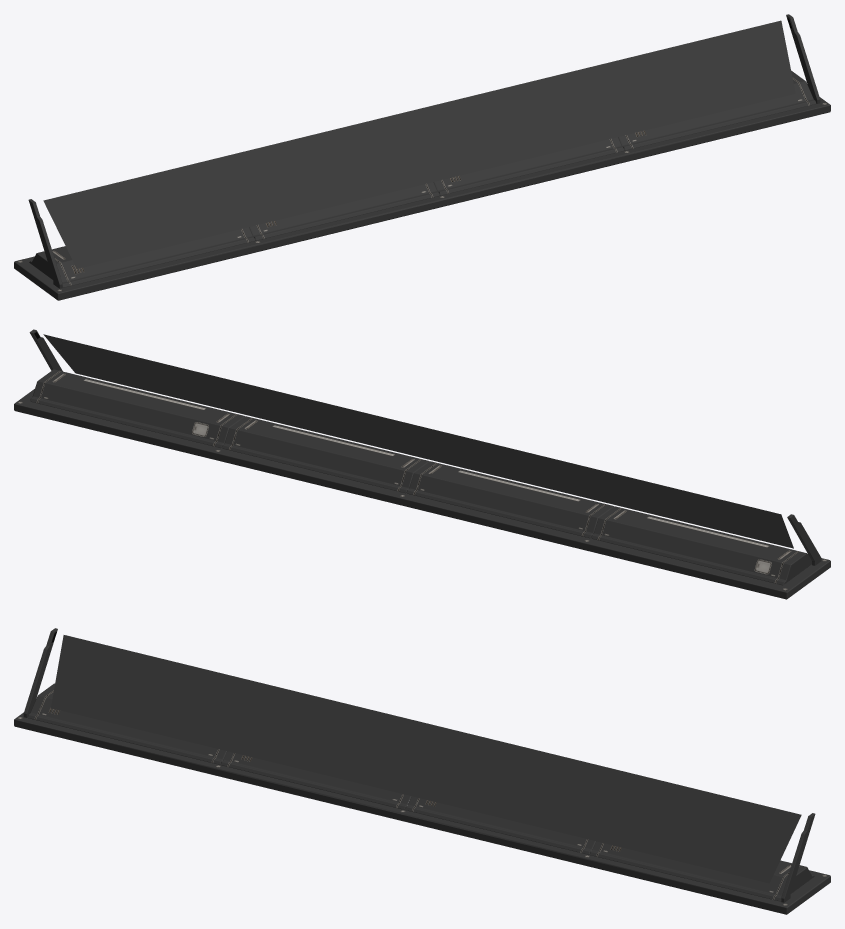
Rendered from SM_Bar_Main_Hologram.FBX.
3 renders of one model, top to bottom at view 1: azimuth 30°, elevation 25°; view 2: azimuth 150°, elevation 25°; view 3: azimuth 330°, elevation 25°, orthographic.
Visible parts, largest first — view 1: SM_Bar_Main_Hologram_LOD0; view 2: SM_Bar_Main_Hologram_LOD0; view 3: SM_Bar_Main_Hologram_LOD0.
Part boxes in pixels (x1=…): SM_Bar_Main_Hologram_LOD0: x1=14, y1=14, x2=830, y2=300; SM_Bar_Main_Hologram_LOD0: x1=14, y1=329, x2=830, y2=599; SM_Bar_Main_Hologram_LOD0: x1=14, y1=628, x2=830, y2=914.
Size of what is drawn, in the model's own units: 395 by 39.19 by 36.29.
